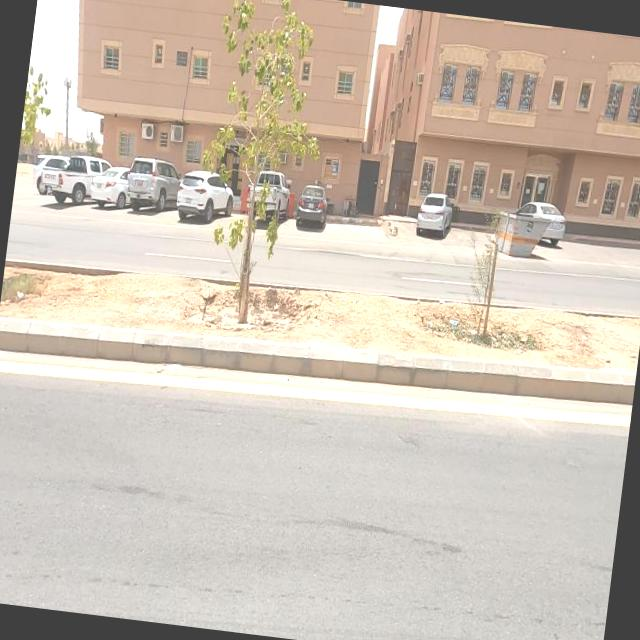debris: (428, 298, 479, 348)
